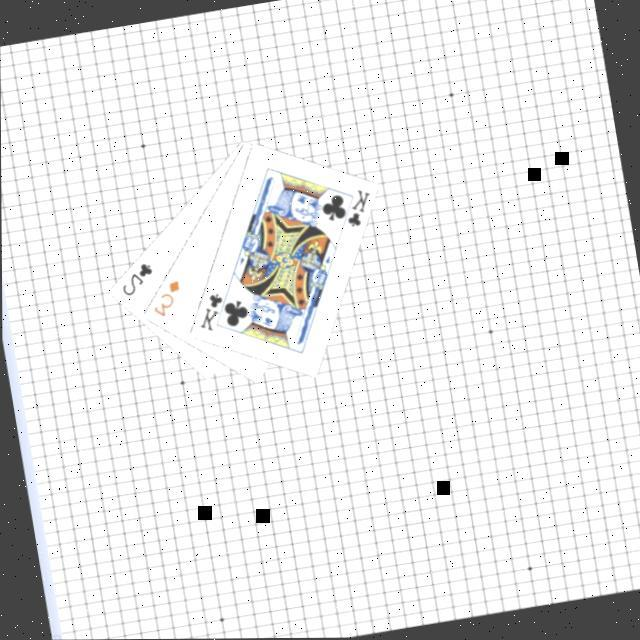2C: (112, 258, 156, 300)
3D: (143, 276, 185, 322)
KC: (329, 185, 375, 232), (189, 288, 234, 336)
